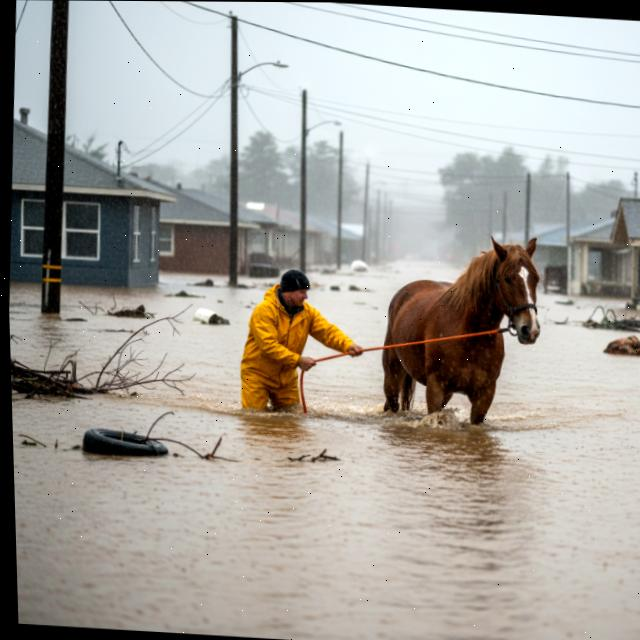civilian: (226, 255, 370, 423)
horse: (358, 223, 568, 433)
